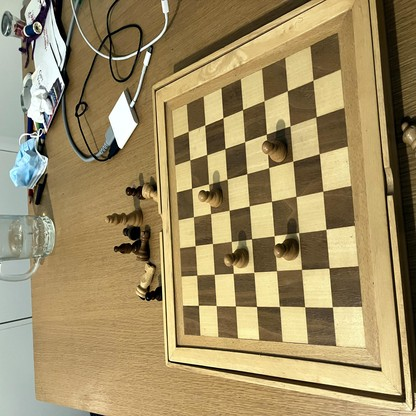bishop_black: (114, 241, 140, 254)
king_white: (106, 209, 143, 228)
knight_white: (135, 263, 156, 296)
pawn_black: (127, 187, 144, 200), (123, 226, 139, 239)
pawn_white: (275, 240, 299, 261), (225, 247, 249, 268), (263, 142, 286, 162), (199, 190, 223, 207)
rock_black: (137, 231, 149, 259)
